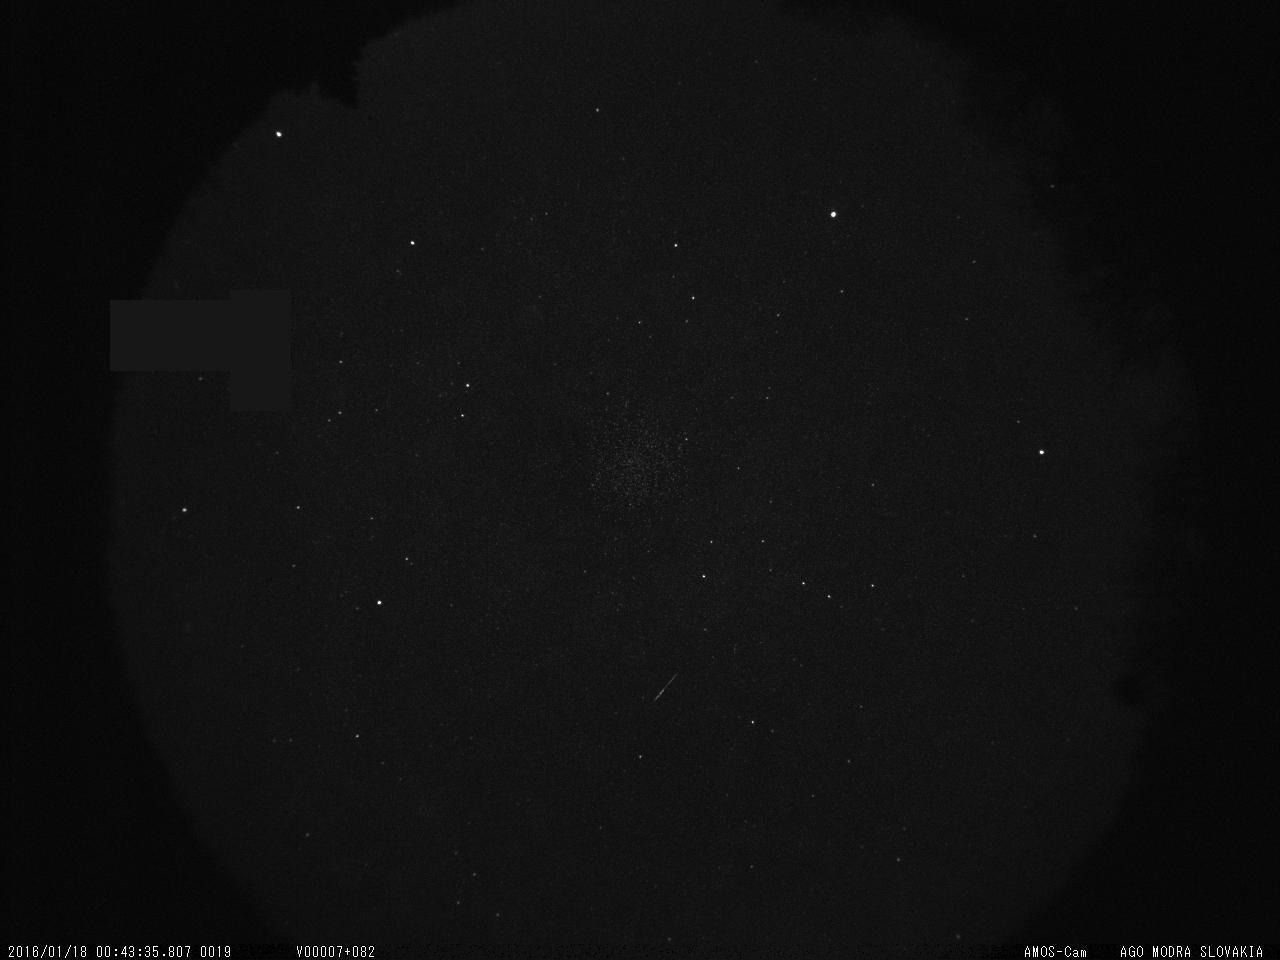meteor: (649, 663, 683, 708)
